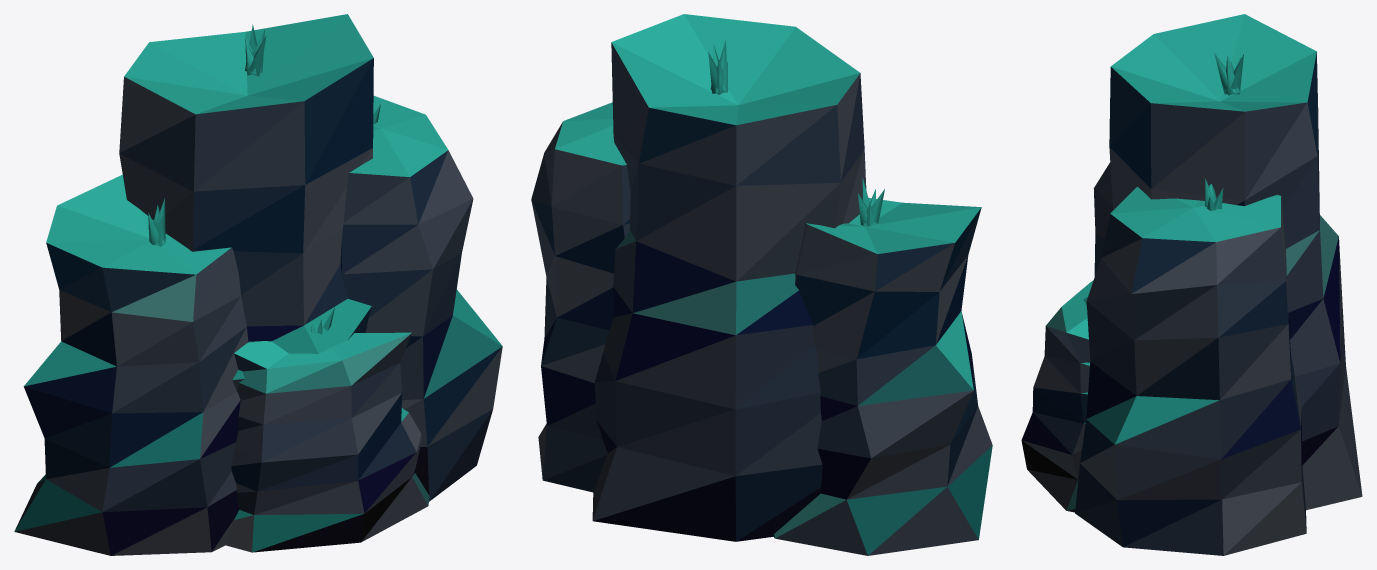
File: batu_cliff_basalt_644925.glb
The picture shows the model from 3 angles, left to right: view 1: azimuth 30°, elevation 25°; view 2: azimuth 150°, elevation 25°; view 3: azimuth 270°, elevation 25°; orthographic projection. The views are drawn at different scales.
Visible parts, largest first — view 1: Tebing_Sungai_Curam; view 2: Tebing_Sungai_Curam; view 3: Tebing_Sungai_Curam.
Part boxes in pixels (x1,y1,x2,y2): Tebing_Sungai_Curam: (14,14,502,555); Tebing_Sungai_Curam: (531,14,992,555); Tebing_Sungai_Curam: (1021,14,1362,555).
Bounding box in the file's own units: 7.17 × 6.74 × 4.97.
